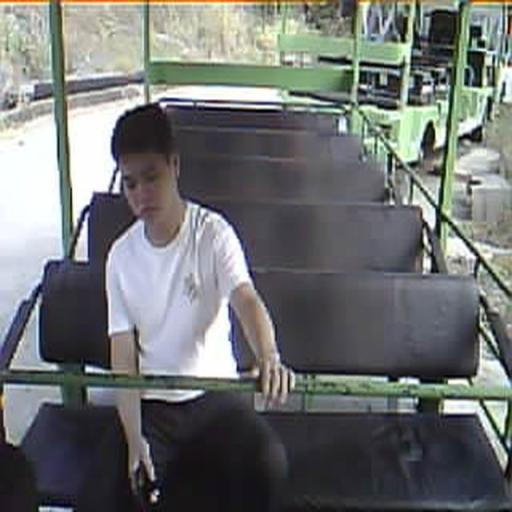persona: (104, 101, 294, 510)
